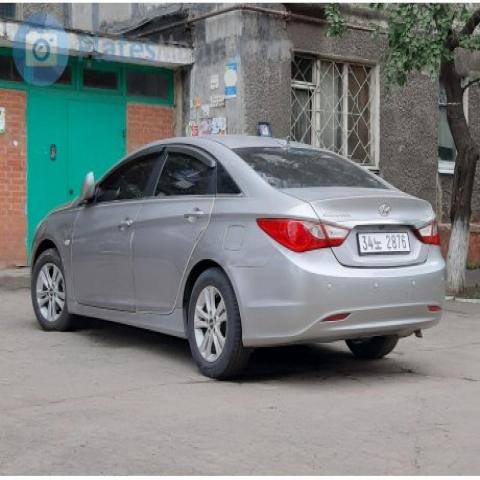LP: (352, 229, 416, 254)
